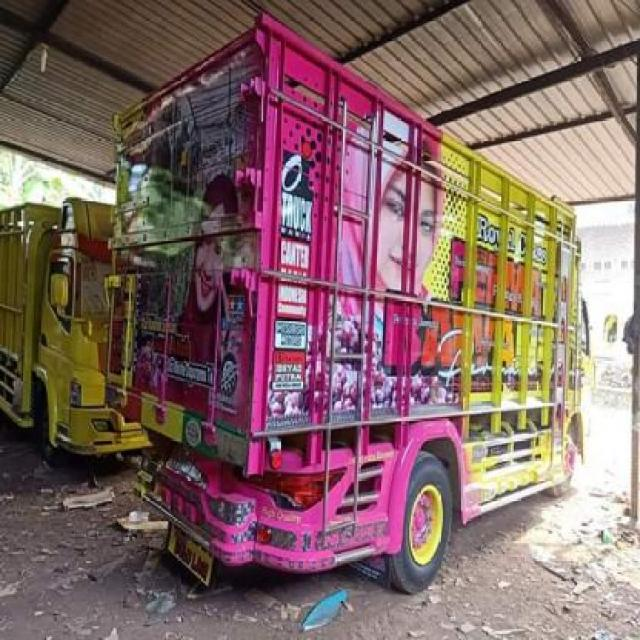truck: (108, 10, 617, 592)
